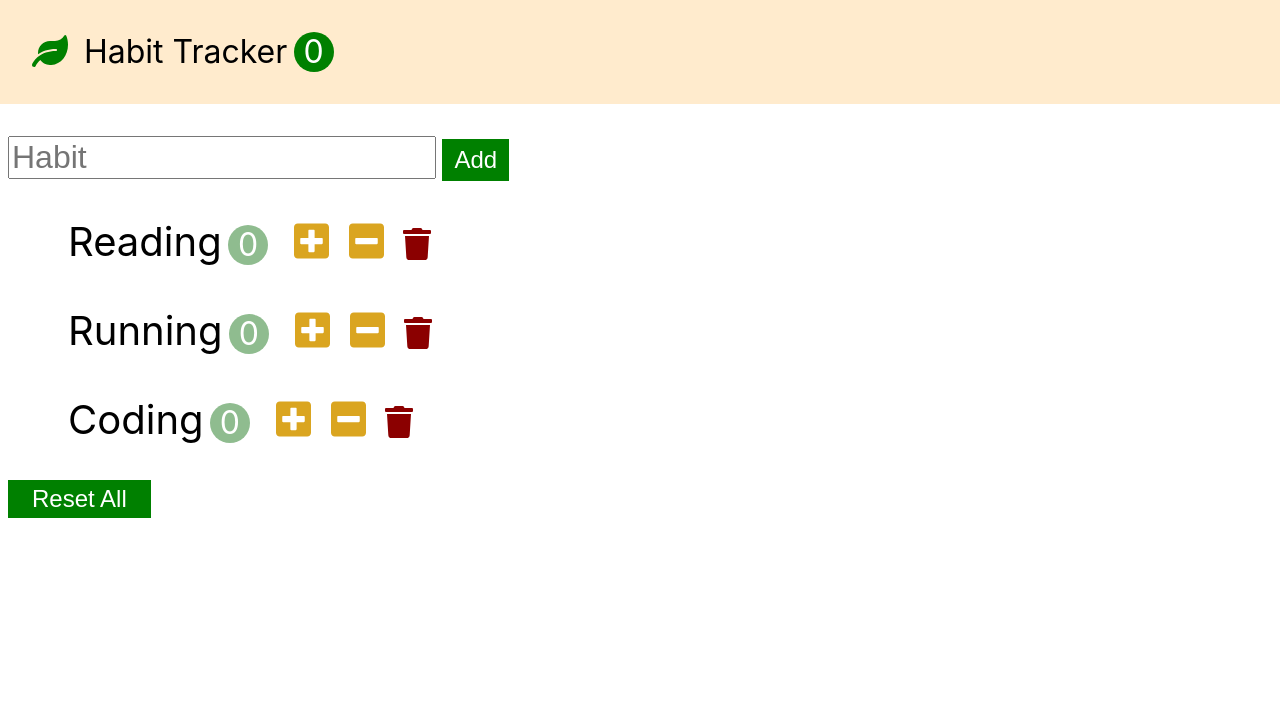
Test case: Habit Tracker › decrease count
Click the button titled "increase" in the row of "Reading".
click(312, 243)  # box [288,219,335,266]
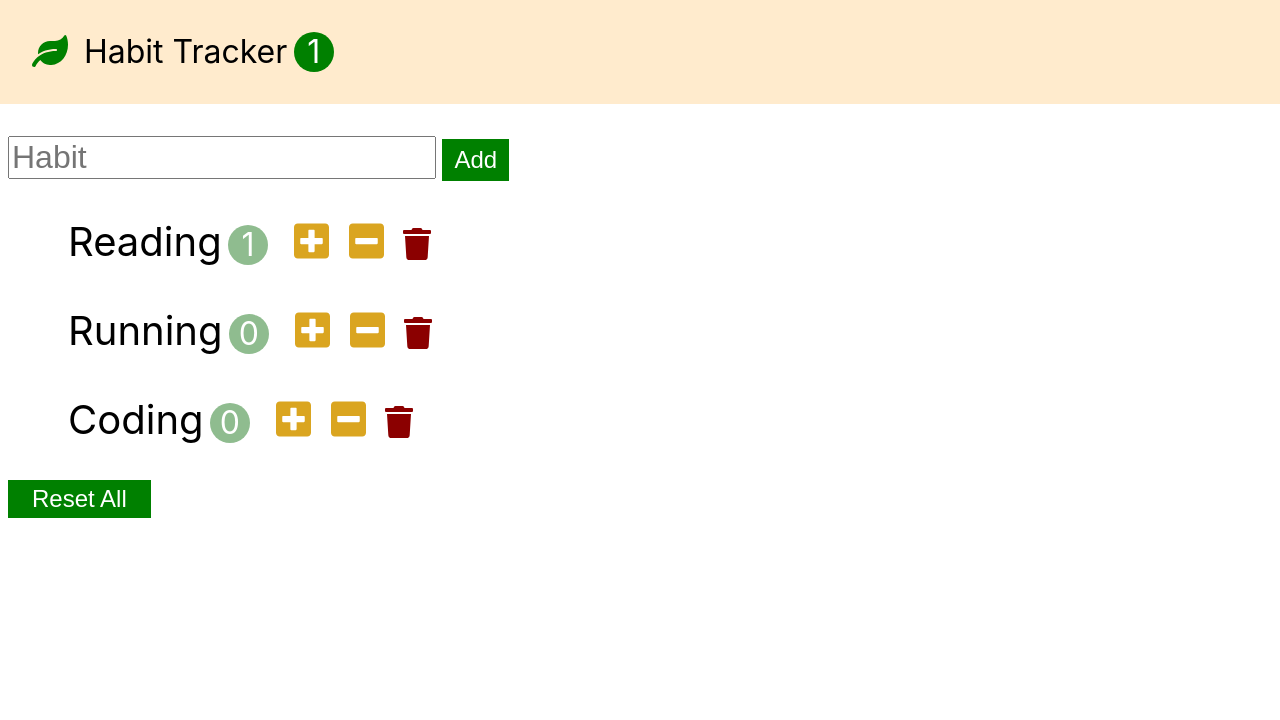
Click the button titled "increase" in the row of "Reading".
click(312, 243)  # box [288,219,335,266]
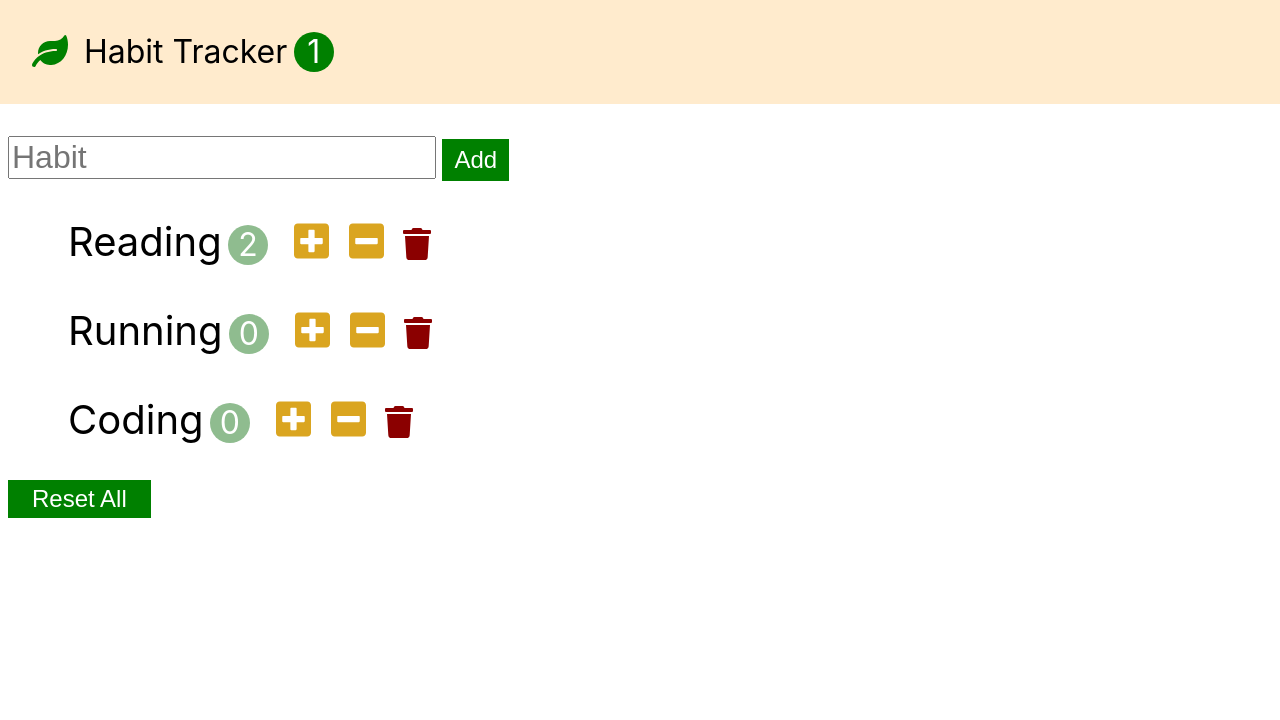
Click the button titled "increase" in the row of "Reading".
click(312, 243)  # box [288,219,335,266]
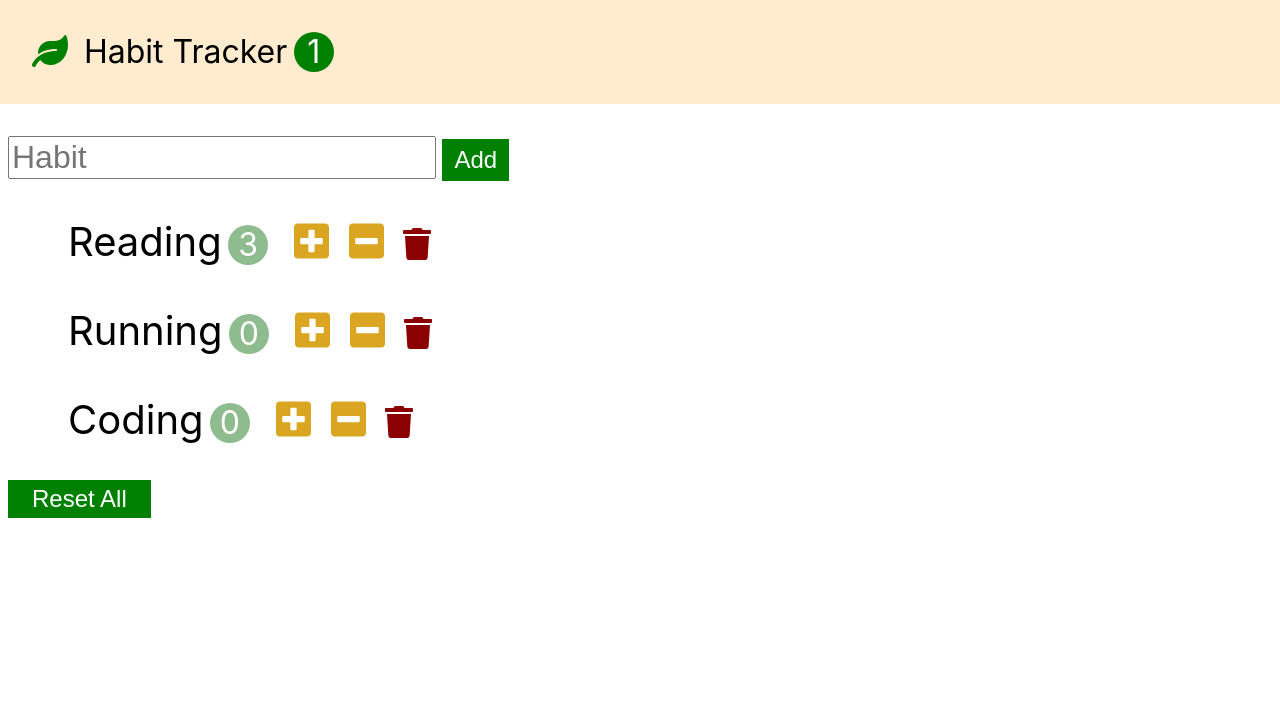
Click the button titled "decrease" in the row of "Reading".
click(367, 243)  # box [343,219,390,266]
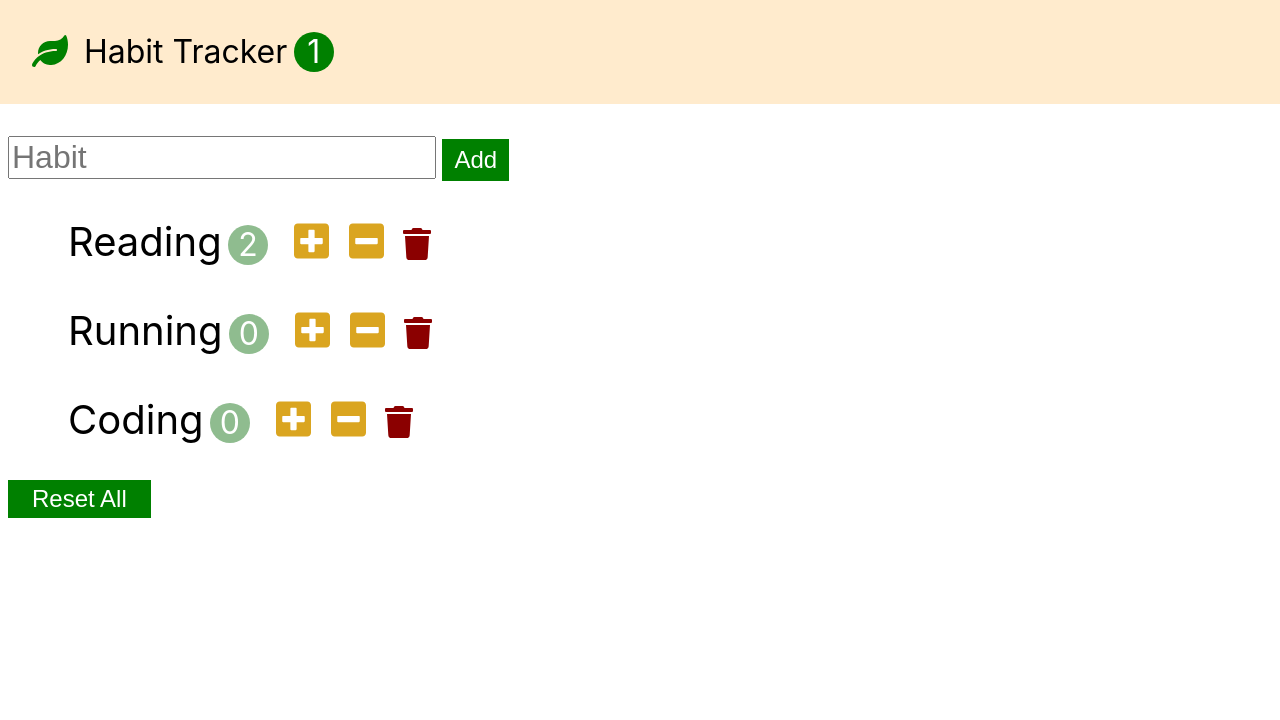
Check: the text with test id "habit-count" reads "2", box [228,225,268,265]
